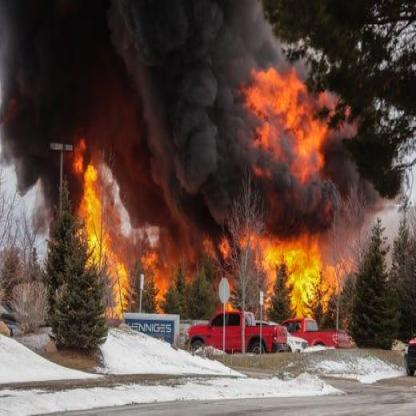fire: (237, 58, 354, 193), (218, 227, 358, 326), (70, 139, 132, 330), (136, 245, 191, 314), (200, 230, 221, 262)
